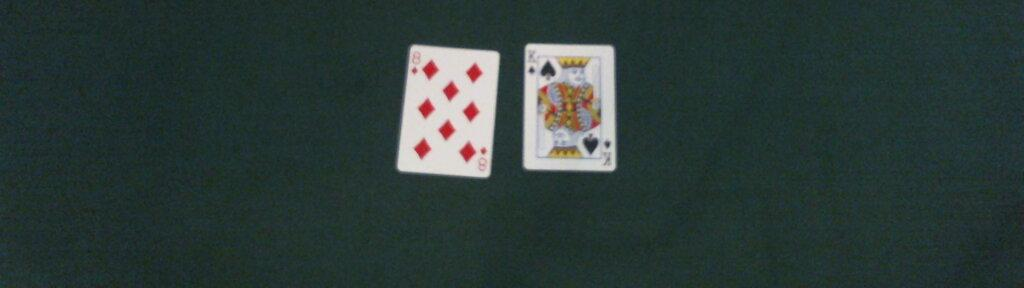eight: (395, 45, 501, 181)
king: (521, 43, 618, 173)
